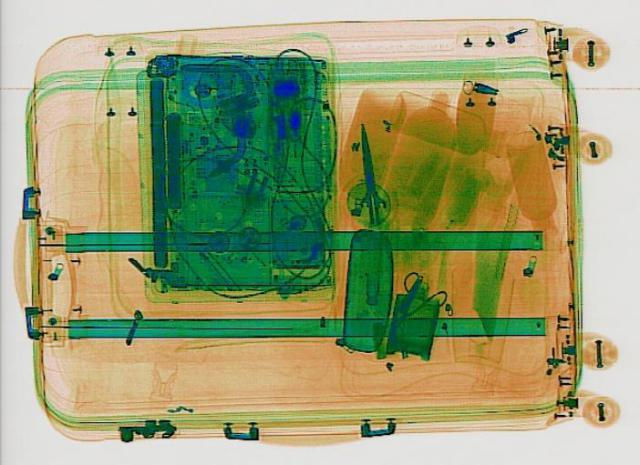Knife: (346, 123, 388, 225)
Scissors: (359, 269, 453, 348)
